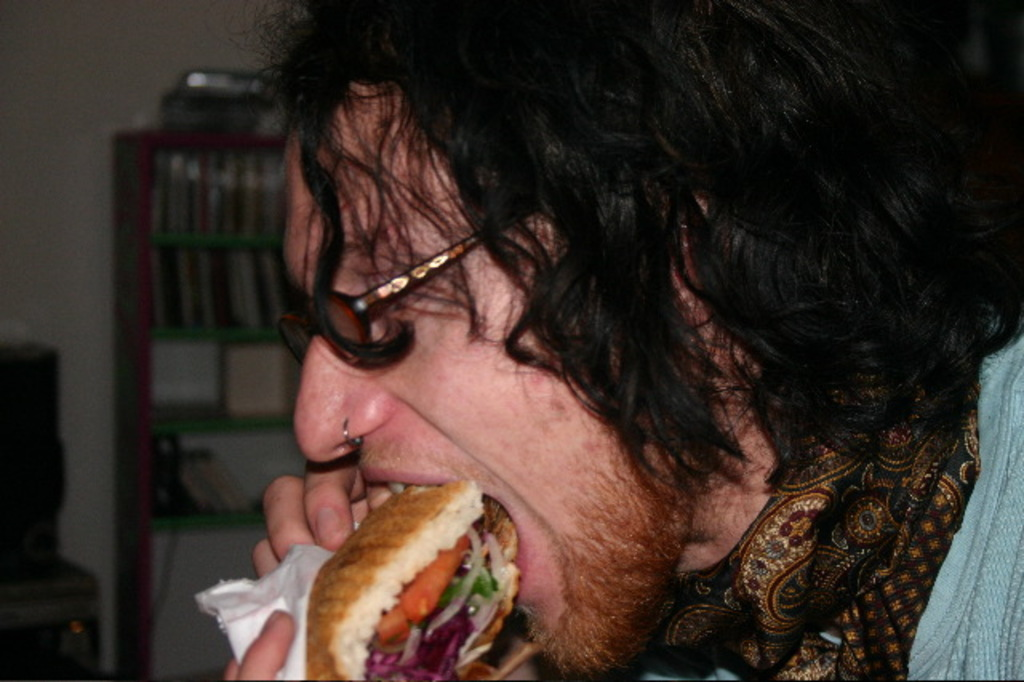Hamburger: (297, 481, 524, 680)
